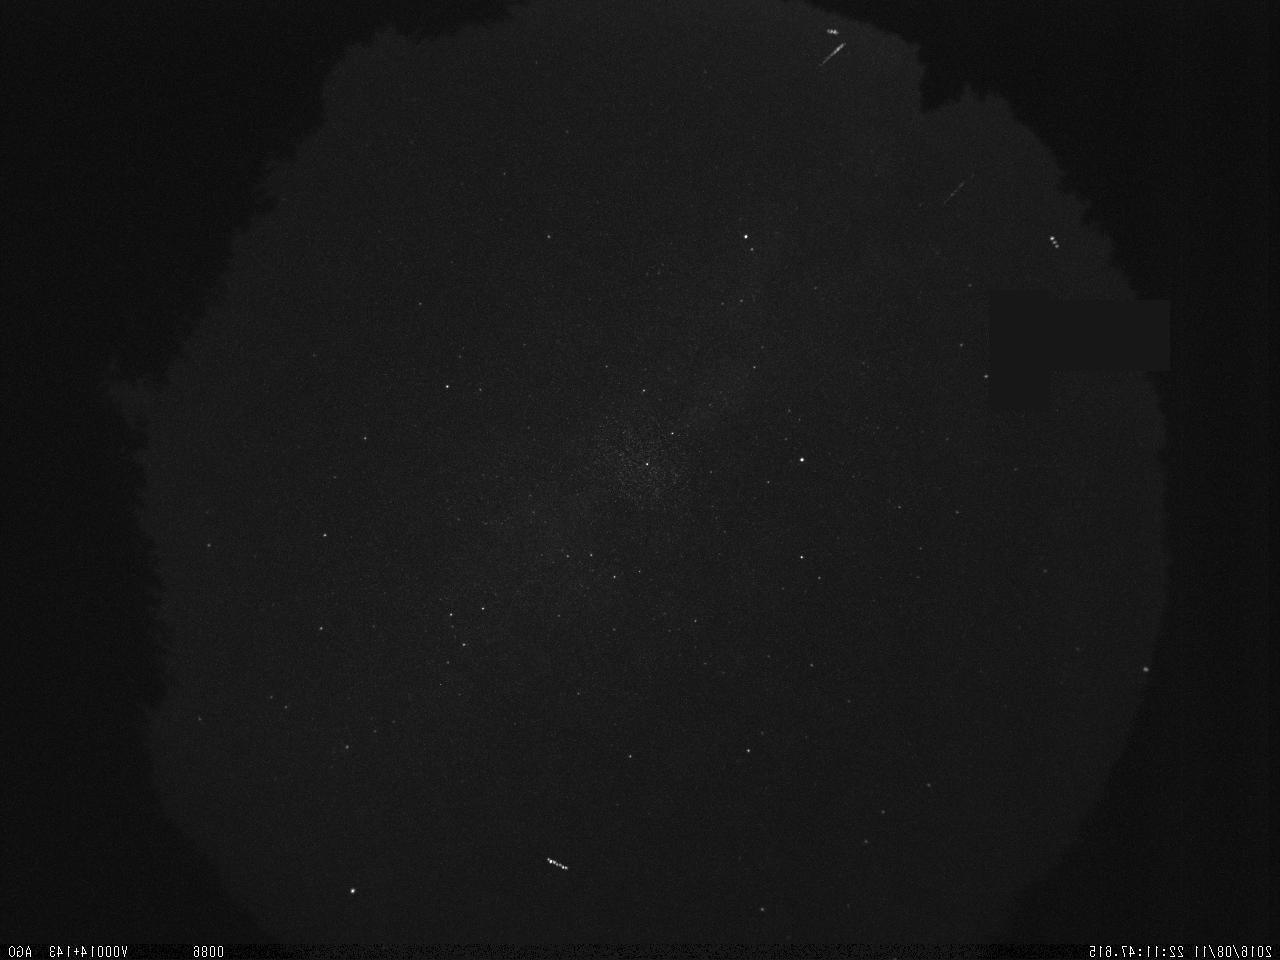meteor: (815, 40, 850, 68)
satelite: (537, 843, 580, 881), (822, 25, 842, 39)
